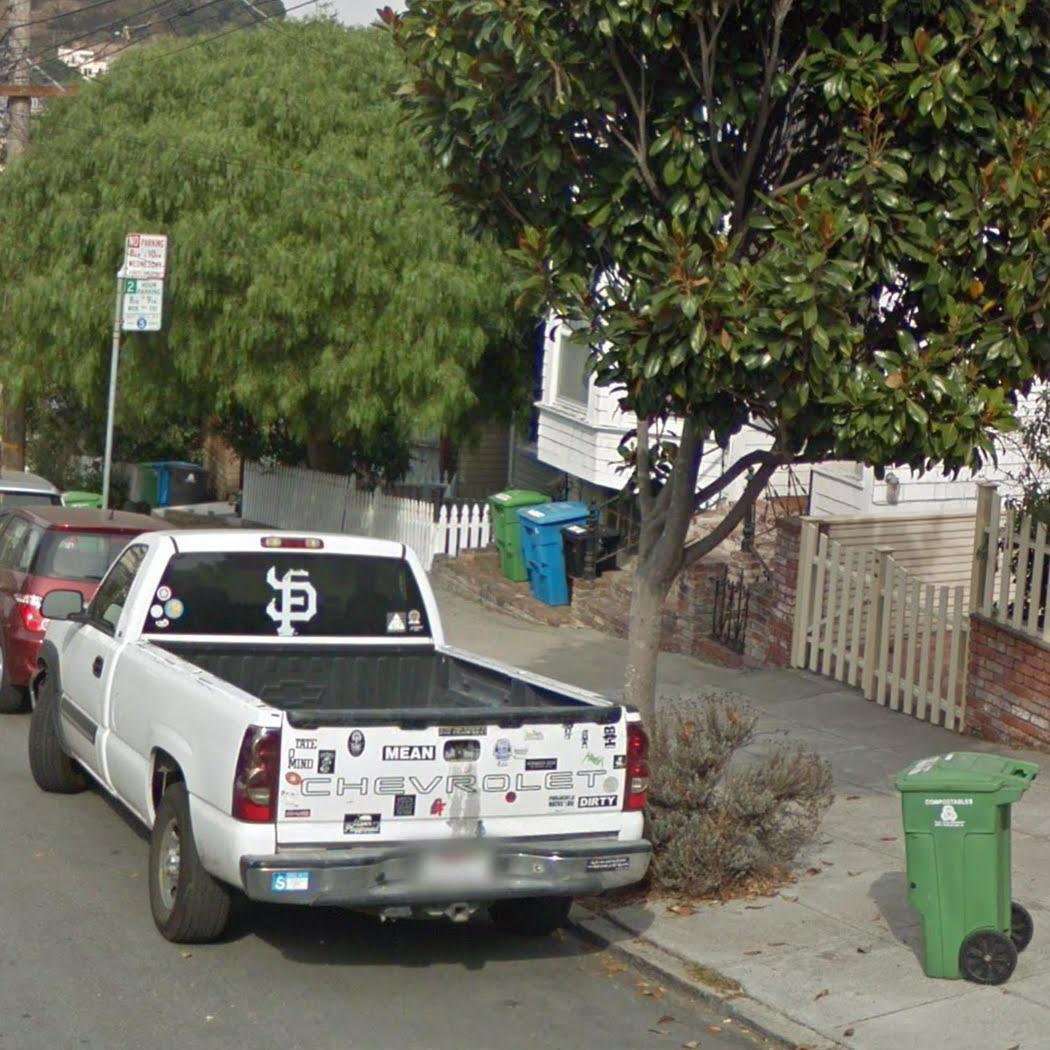2 Hour Parking: (119, 276, 164, 332)
No Parking: (121, 231, 169, 281)
